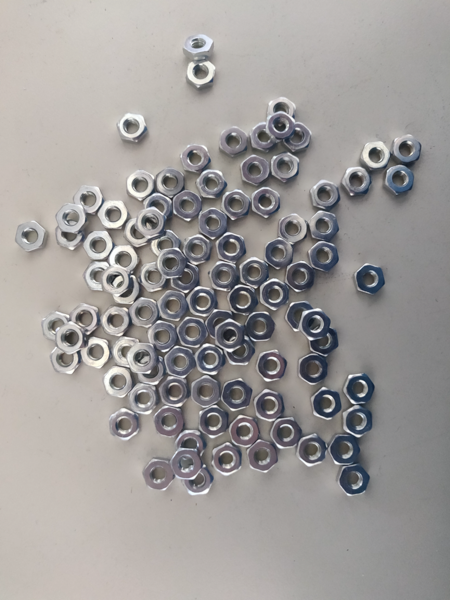nut: (298, 308, 332, 341), (170, 448, 204, 480), (255, 350, 288, 382), (229, 415, 261, 448), (182, 463, 214, 496), (143, 458, 175, 491), (159, 375, 192, 407), (102, 366, 135, 398), (100, 305, 133, 337), (337, 465, 371, 496), (247, 439, 278, 473), (215, 318, 246, 352), (126, 343, 160, 374), (354, 263, 386, 295), (177, 317, 209, 349), (154, 405, 186, 437), (128, 383, 160, 415), (177, 316, 209, 348), (328, 434, 361, 465), (211, 443, 242, 476), (136, 206, 167, 239), (227, 285, 258, 318), (157, 290, 190, 321), (194, 345, 227, 376), (110, 408, 141, 441), (222, 378, 252, 412), (270, 418, 302, 449), (254, 389, 285, 421), (117, 114, 149, 145), (186, 60, 217, 92), (310, 180, 342, 211), (308, 211, 340, 242), (15, 221, 46, 253), (209, 261, 240, 293), (98, 199, 130, 230), (56, 202, 87, 234), (129, 297, 161, 328), (165, 346, 197, 377), (155, 249, 188, 279), (136, 355, 166, 388), (198, 404, 227, 438), (360, 142, 391, 173), (108, 244, 139, 275), (70, 304, 101, 335), (50, 344, 81, 375), (343, 374, 375, 404), (311, 388, 341, 420), (174, 430, 206, 460), (286, 261, 316, 293), (215, 233, 247, 263), (81, 337, 111, 369), (297, 434, 326, 467), (252, 187, 281, 220), (264, 237, 293, 270), (56, 321, 85, 354), (309, 241, 339, 272), (241, 155, 271, 186), (73, 185, 104, 215), (245, 312, 276, 342), (343, 406, 372, 438), (299, 353, 328, 385), (219, 125, 248, 157), (180, 144, 212, 173), (260, 278, 289, 310), (310, 325, 339, 357), (191, 376, 220, 408), (111, 336, 140, 368), (240, 258, 270, 288), (186, 287, 216, 317), (196, 170, 227, 199), (222, 190, 251, 221), (341, 168, 373, 196), (282, 122, 312, 151), (271, 152, 300, 182), (156, 167, 185, 197), (198, 210, 228, 239), (101, 267, 130, 297), (225, 336, 255, 365), (173, 191, 201, 222), (128, 170, 156, 201), (83, 262, 112, 291), (386, 165, 414, 195), (279, 214, 307, 244), (83, 231, 113, 259), (151, 230, 181, 258), (125, 218, 153, 248), (112, 275, 140, 305), (184, 234, 211, 265), (393, 135, 422, 163), (267, 112, 295, 141), (149, 321, 178, 349), (140, 263, 167, 293), (284, 302, 311, 332), (42, 312, 69, 342), (172, 264, 199, 293), (184, 35, 214, 61), (268, 98, 296, 125), (206, 310, 234, 337), (143, 194, 173, 219), (56, 222, 82, 250), (250, 124, 275, 153)
